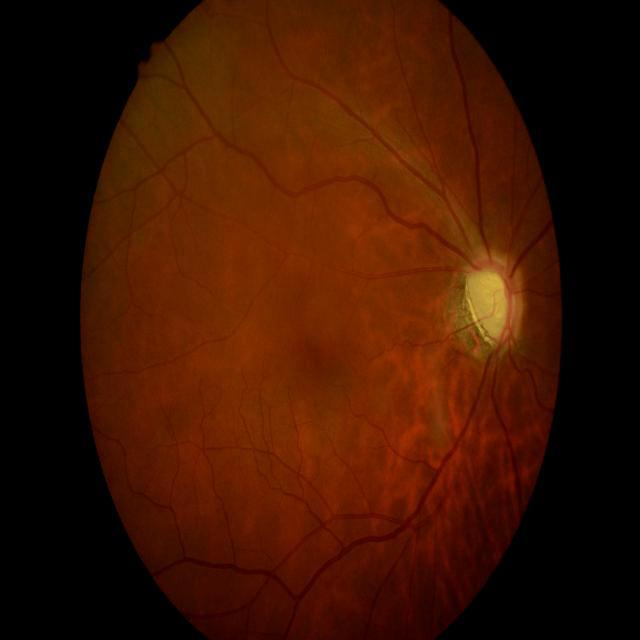cup: (466, 266, 514, 342)
disk: (463, 254, 523, 345)
